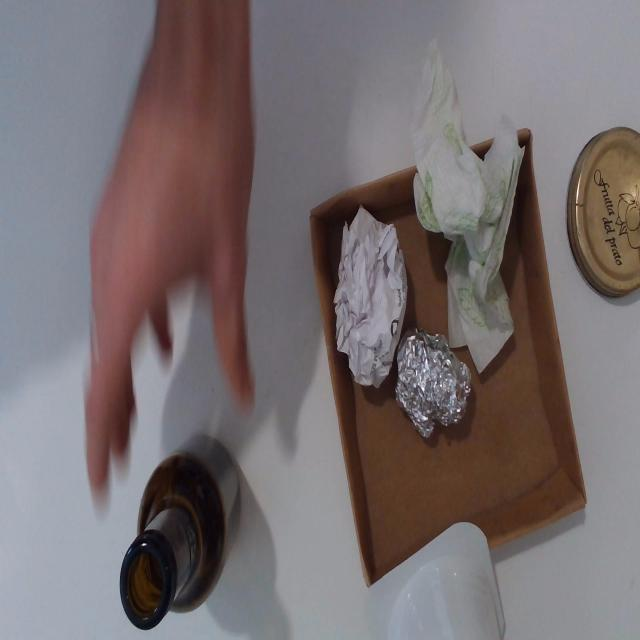Glass: (121, 428, 240, 632)
Paper: (416, 39, 524, 380), (339, 209, 406, 389)
